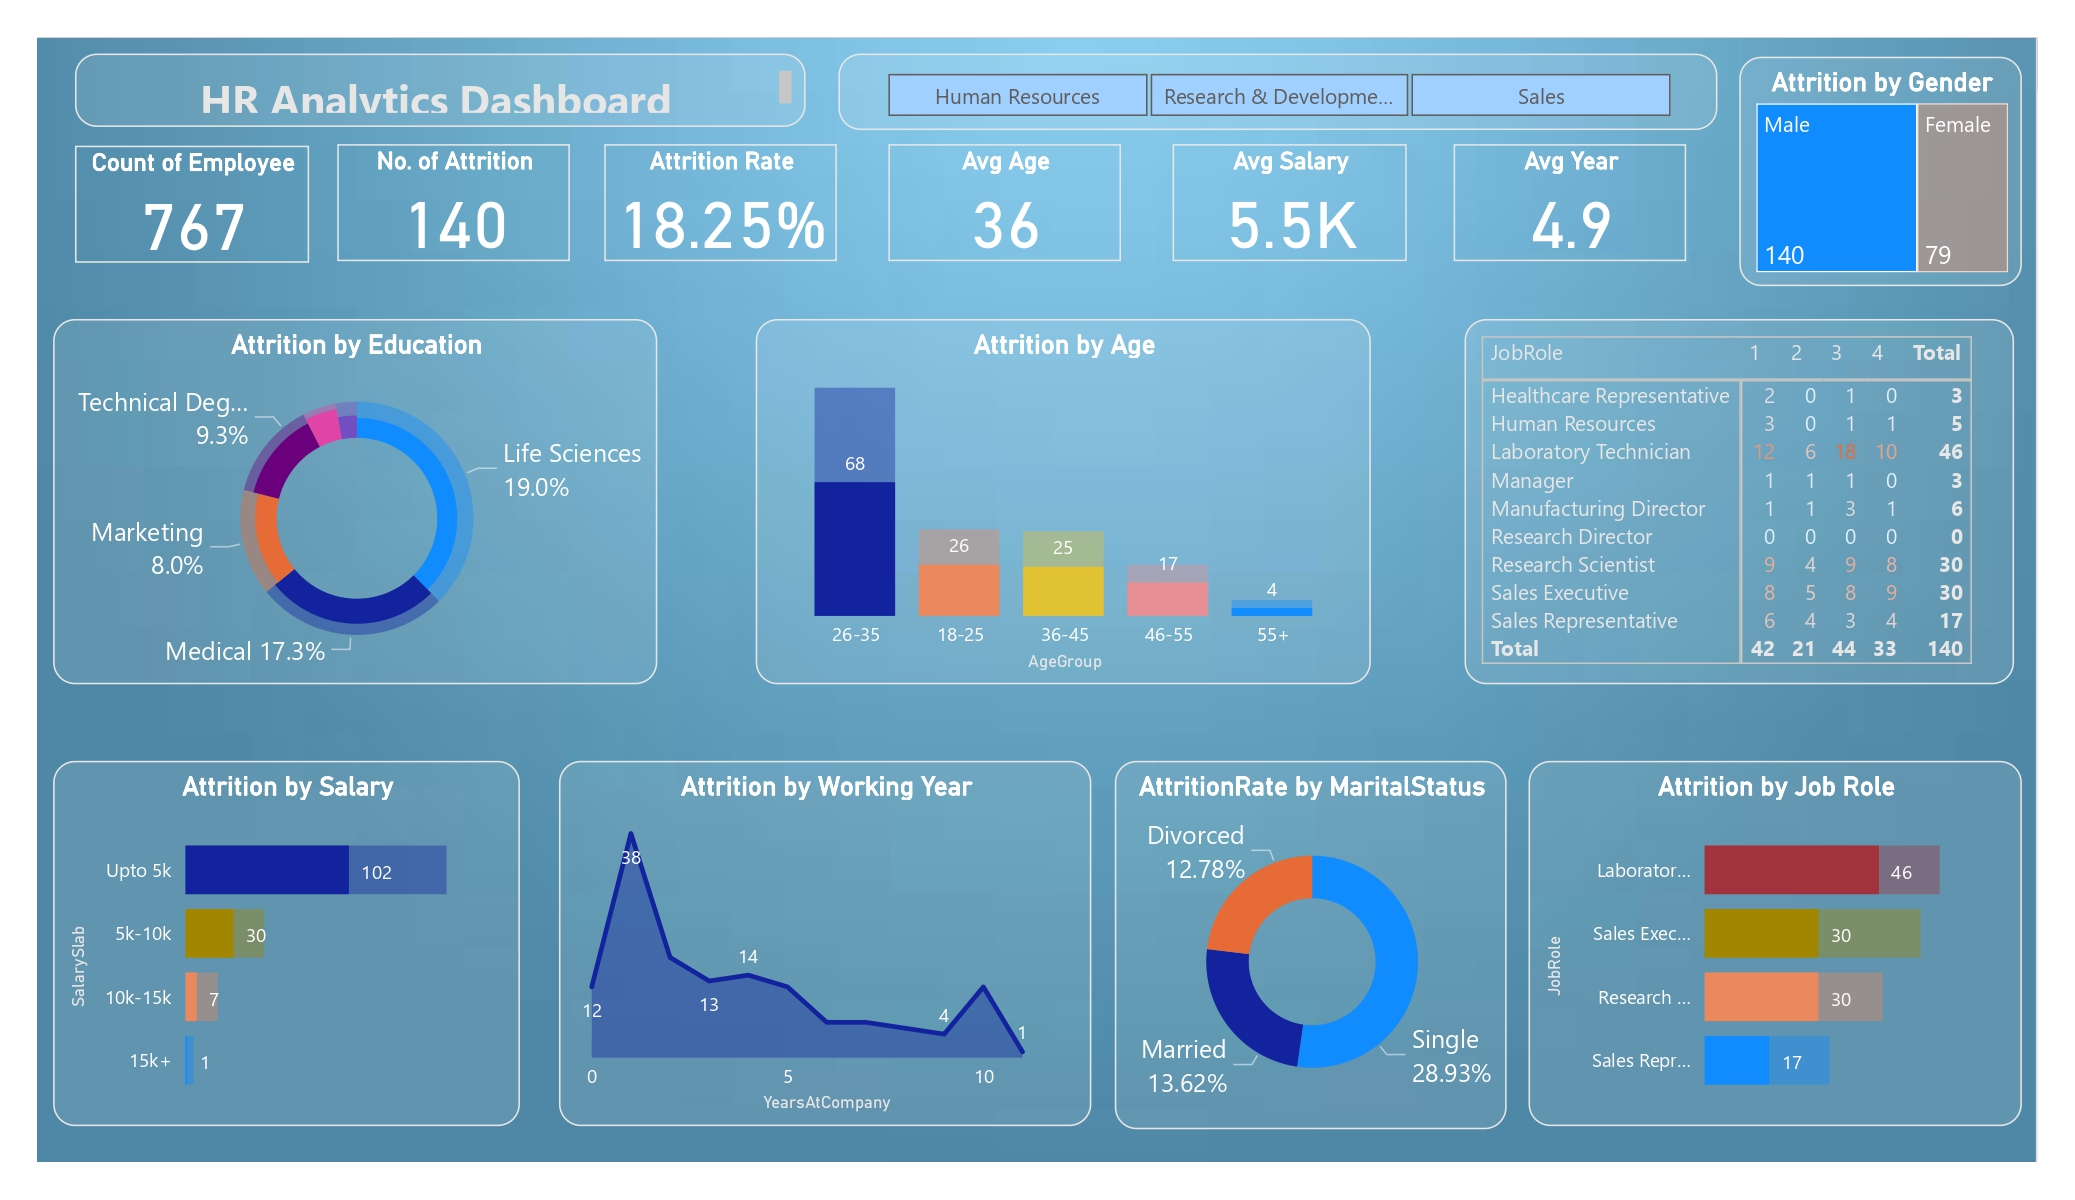

The dashboard page shown, as its layout file describes it:
{"tool":"powerbi","page":{"name":"Page 1","canvas":[1280,720],"ordinal":0},"visuals":[{"type":"card","title":"Count of Employee","fields":{"Values":["CountNonNull(HR_Analytics.EmpID)"]},"box":[24.1,68.7,149.5,74.8],"z":0},{"type":"card","title":"No. of Attrition","fields":{"Values":["Sum(HR_Analytics.AttritionCount)"]},"box":[191.5,68.3,149.5,74.8],"z":1000},{"type":"card","title":"Attrition Rate","fields":{"Values":["HR_Analytics.AttritionRate"]},"box":[362.8,68.3,149.5,74.8],"z":2000},{"type":"card","title":"Avg Age ","fields":{"Values":["Avg(HR_Analytics.Age)"]},"box":[544.9,68.3,149.5,74.8],"z":3000},{"type":"card","title":"Avg Salary","fields":{"Values":["Avg(HR_Analytics.MonthlyIncome)"]},"box":[727,68.3,149.5,74.8],"z":4000},{"type":"card","title":"Avg Year","fields":{"Values":["Avg(HR_Analytics.YearsAtCompany)"]},"box":[906.7,68.3,149.5,74.8],"z":5000},{"type":"donutChart","title":"Attrition by Education","fields":{"Category":["HR_Analytics.EducationField"],"Y":["Sum(HR_Analytics.AttritionCount)"]},"box":[10,180,387.1,234.3],"z":6000},{"type":"columnChart","title":"Attrition by Age","fields":{"Category":["HR_Analytics.AgeGroup"],"Y":["Sum(HR_Analytics.AttritionCount)"]},"box":[460,180,394.3,234.3],"z":7000},{"type":"pivotTable","fields":{"Rows":["HR_Analytics.JobRole"],"Columns":["HR_Analytics.JobSatisfaction"],"Values":["Sum(HR_Analytics.AttritionCount)"]},"box":[914.3,180,351.4,234.3],"z":8000},{"type":"barChart","title":"Attrition by Salary","fields":{"Category":["HR_Analytics.SalarySlab"],"Y":["Sum(HR_Analytics.AttritionCount)"]},"box":[9.6,463.1,299.1,234],"z":9000},{"type":"barChart","title":"Attrition by Job Role","fields":{"Y":["Sum(HR_Analytics.AttritionCount)"],"Category":["HR_Analytics.JobRole"]},"box":[955.2,463.1,316,234],"z":10000},{"type":"areaChart","title":"Attrition by Working Year","fields":{"Category":["HR_Analytics.YearsAtCompany"],"Y":["Sum(HR_Analytics.AttritionCount)"]},"box":[334.1,463.1,341.3,234],"z":11000},{"type":"treemap","title":"Attrition by Gender","fields":{"Group":["HR_Analytics.Gender"],"Values":["Sum(HR_Analytics.AttritionCount)"]},"box":[1090.3,12.1,180.9,147.1],"z":12000},{"type":"slicer","fields":{"Values":["HR_Analytics.Department"]},"box":[512.6,9.6,563.2,49.4],"z":13000},{"type":"textbox","box":[24.1,9.6,467.9,47],"z":14000},{"type":"donutChart","title":"AttritionRate by MaritalStatus","fields":{"Y":["HR_Analytics.AttritionRate"],"Category":["HR_Analytics.MaritalStatus"]},"box":[689.8,463.1,250.9,236.4],"z":15000}]}

Visuals, with their boxes on the page's 1280x720 design canvas (x1, y1, x2, y2). These are canvas units, not pixel positions in the 2075x1200 screenshot, which may show the page scaled, cropped or inside an application window:
"Count of Employee" card: bbox=[24, 69, 174, 144]
"No. of Attrition" card: bbox=[192, 68, 341, 143]
"Attrition Rate" card: bbox=[363, 68, 512, 143]
"Avg Age " card: bbox=[545, 68, 694, 143]
"Avg Salary" card: bbox=[727, 68, 876, 143]
"Avg Year" card: bbox=[907, 68, 1056, 143]
"Attrition by Education" donutChart: bbox=[10, 180, 397, 414]
"Attrition by Age" columnChart: bbox=[460, 180, 854, 414]
pivotTable - HR_Analytics.JobRole x HR_Analytics.JobSatisfaction: bbox=[914, 180, 1266, 414]
"Attrition by Salary" barChart: bbox=[10, 463, 309, 697]
"Attrition by Job Role" barChart: bbox=[955, 463, 1271, 697]
"Attrition by Working Year" areaChart: bbox=[334, 463, 675, 697]
"Attrition by Gender" treemap: bbox=[1090, 12, 1271, 159]
slicer - HR_Analytics.Department: bbox=[513, 10, 1076, 59]
textbox: bbox=[24, 10, 492, 57]
"AttritionRate by MaritalStatus" donutChart: bbox=[690, 463, 941, 700]
